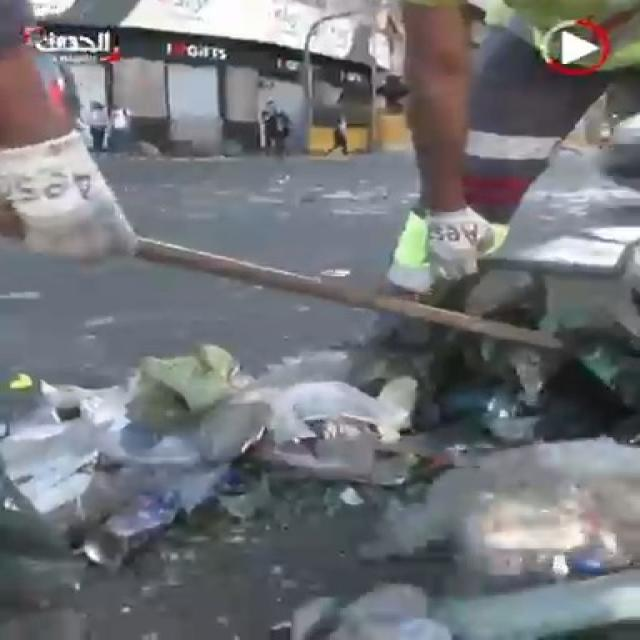high trash: (0, 350, 425, 639), (362, 399, 638, 640)
